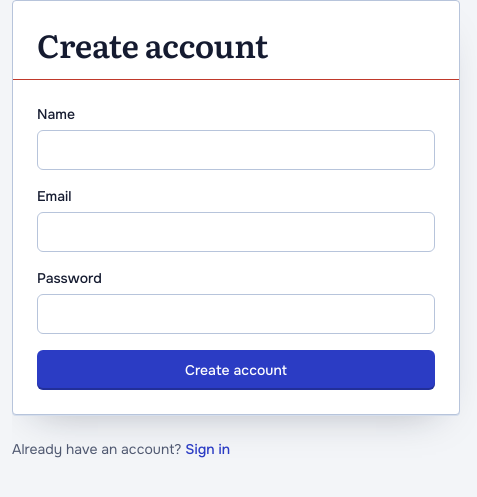
Scenario: RegisterForm › puts a server-side validation error on the matching field in its own wording
In the field labelled "Name": point(236, 150) left=37, top=130, right=435, bottom=170, type "Person"
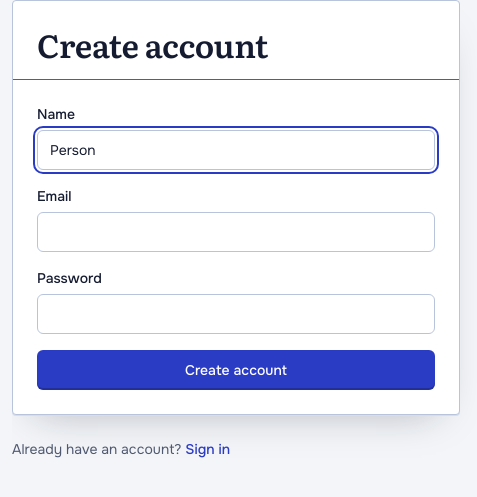
In the field labelled "Email": point(236, 232) left=37, top=212, right=435, bottom=252, type "person@example.com"
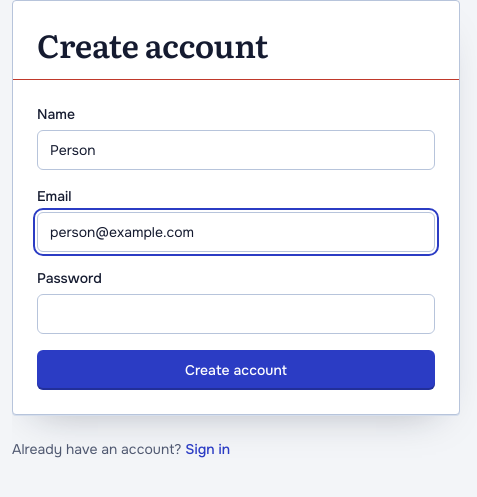
In the password field labelled "Password": point(236, 314) left=37, top=294, right=435, bottom=334, type "correct horse battery"
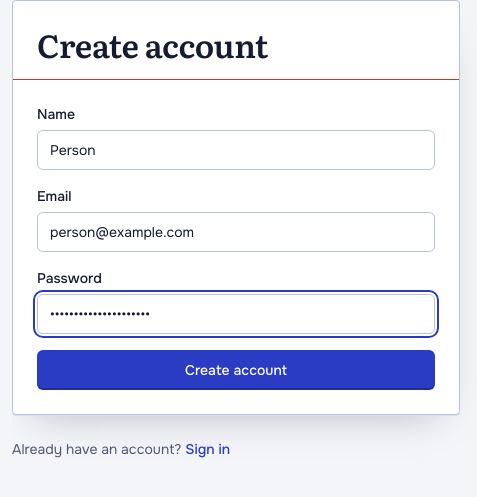
Click the button "Create account": point(236, 370) left=37, top=350, right=435, bottom=390
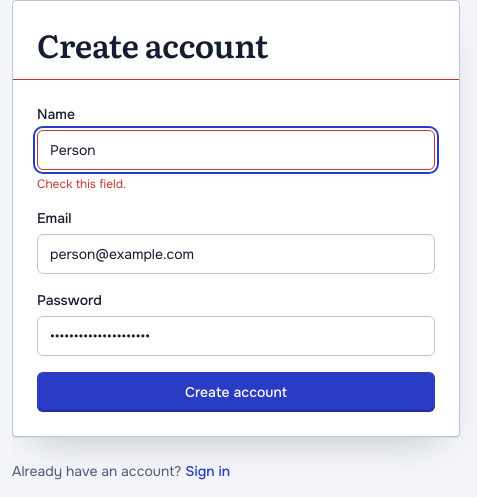
Check: the text "Check this field." is shown, box left=37, top=176, right=126, bottom=192
